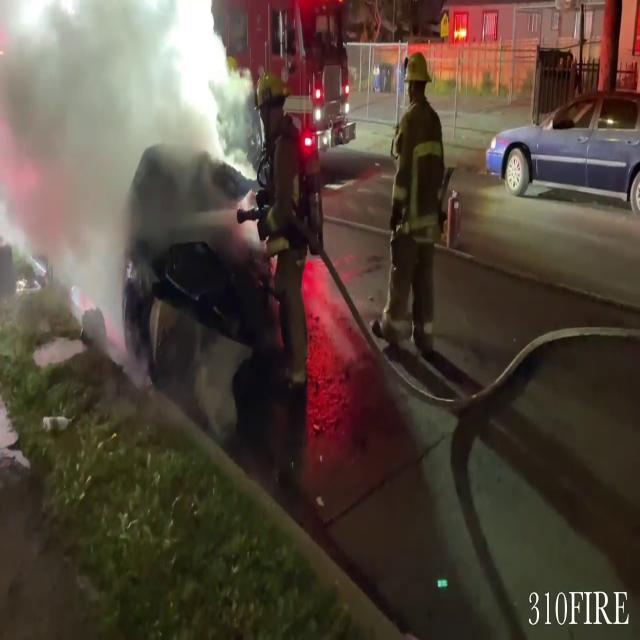Smoke: (0, 0, 254, 282)
